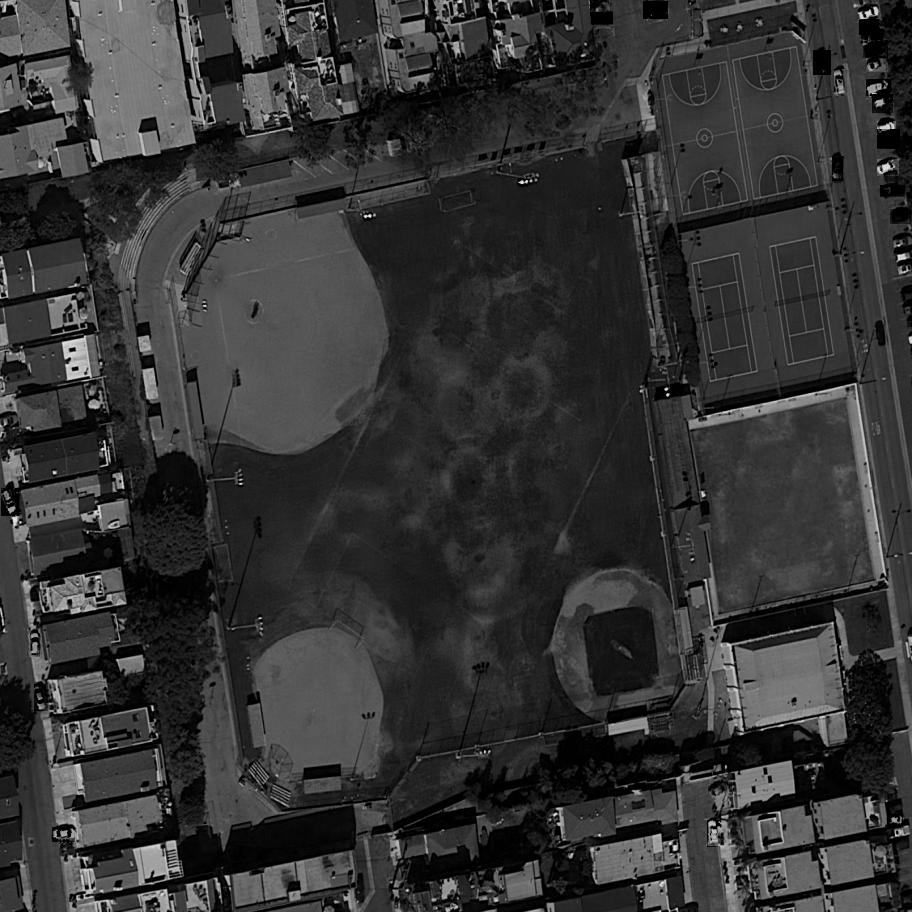small-vehicle: (1, 488, 21, 516), (708, 779, 733, 801), (813, 50, 833, 76), (643, 1, 669, 21), (872, 94, 896, 115), (864, 40, 890, 59), (877, 129, 901, 149), (867, 80, 892, 98), (877, 159, 900, 177), (589, 0, 612, 18), (867, 56, 889, 74), (857, 7, 881, 23), (835, 69, 849, 96), (35, 685, 49, 712), (51, 827, 76, 842), (859, 19, 881, 36), (708, 821, 721, 847), (890, 209, 912, 224), (832, 156, 844, 182), (592, 13, 613, 27), (692, 10, 702, 38), (877, 122, 897, 136), (887, 814, 904, 829), (861, 33, 883, 44), (31, 633, 41, 656), (881, 186, 904, 196)
